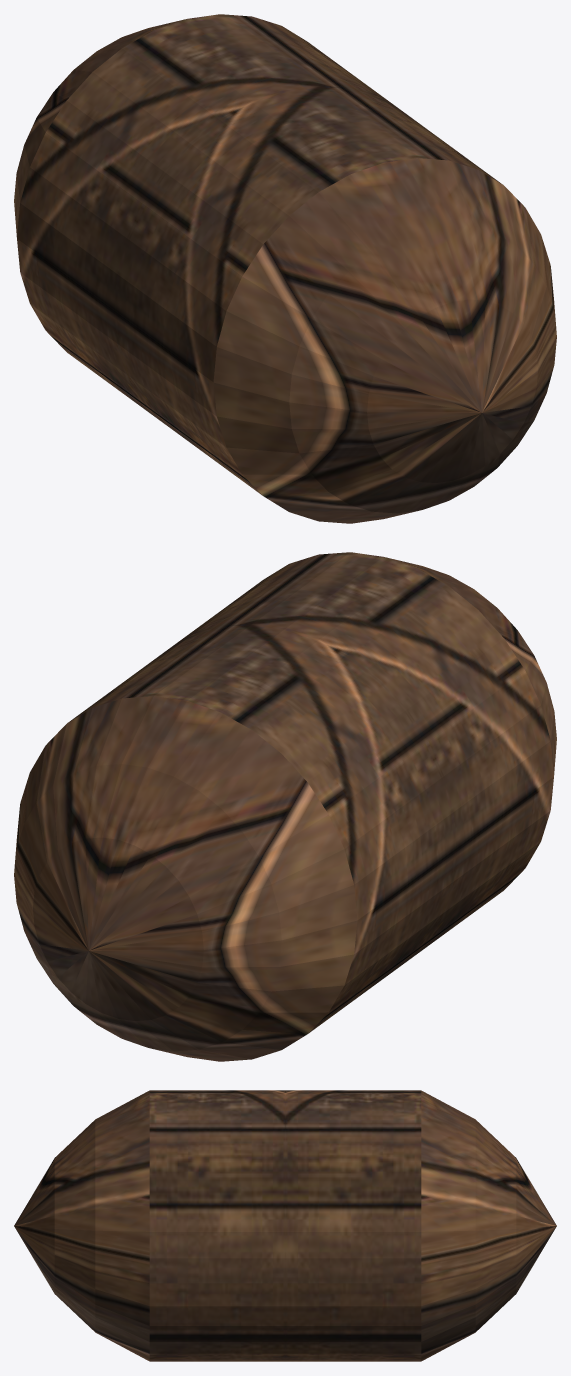
Rendered from airship.obj.
The picture shows the model from 3 angles, top to bottom: view 1: azimuth 30°, elevation 25°; view 2: azimuth 150°, elevation 25°; view 3: azimuth 270°, elevation 25°; orthographic projection. The views are drawn at different scales.
Visible parts, largest first — view 1: 円柱; view 2: 円柱; view 3: 円柱.
Part boxes in pixels (x1,y1,x2,y2): 円柱: (14, 14, 556, 523); 円柱: (14, 552, 556, 1061); 円柱: (14, 1090, 556, 1361).
Size of the model in its own units: 2 by 2 by 4.
Materials: 1 (1 with a texture image).
